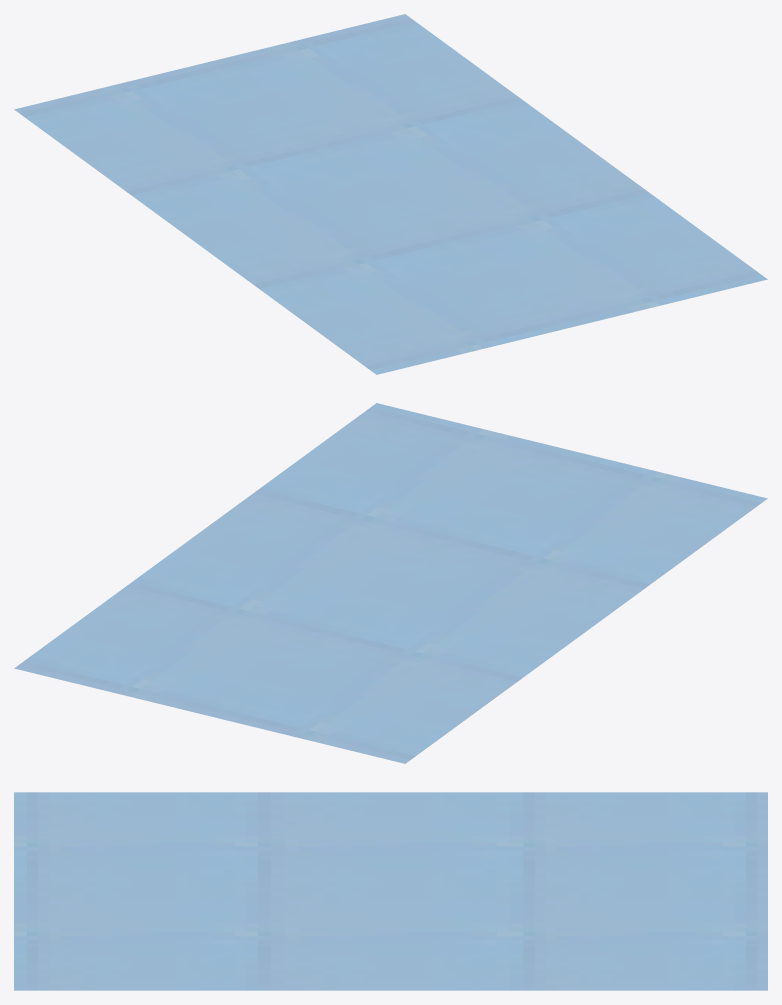
File: Landscape_Water.fbx
The picture shows the model from 3 angles, top to bottom: view 1: azimuth 30°, elevation 25°; view 2: azimuth 150°, elevation 25°; view 3: azimuth 270°, elevation 25°; orthographic projection. The views are drawn at different scales.
Parts seen in each view (by area): view 1: SM_Landscape_Water_01.mo; view 2: SM_Landscape_Water_01.mo; view 3: SM_Landscape_Water_01.mo.
Part boxes in pixels (bbox=[...]): SM_Landscape_Water_01.mo: bbox=[14, 14, 767, 374]; SM_Landscape_Water_01.mo: bbox=[14, 403, 767, 763]; SM_Landscape_Water_01.mo: bbox=[14, 792, 767, 990].
Bounding box in the file's own units: 6249 × 0.00163 × 10031.
